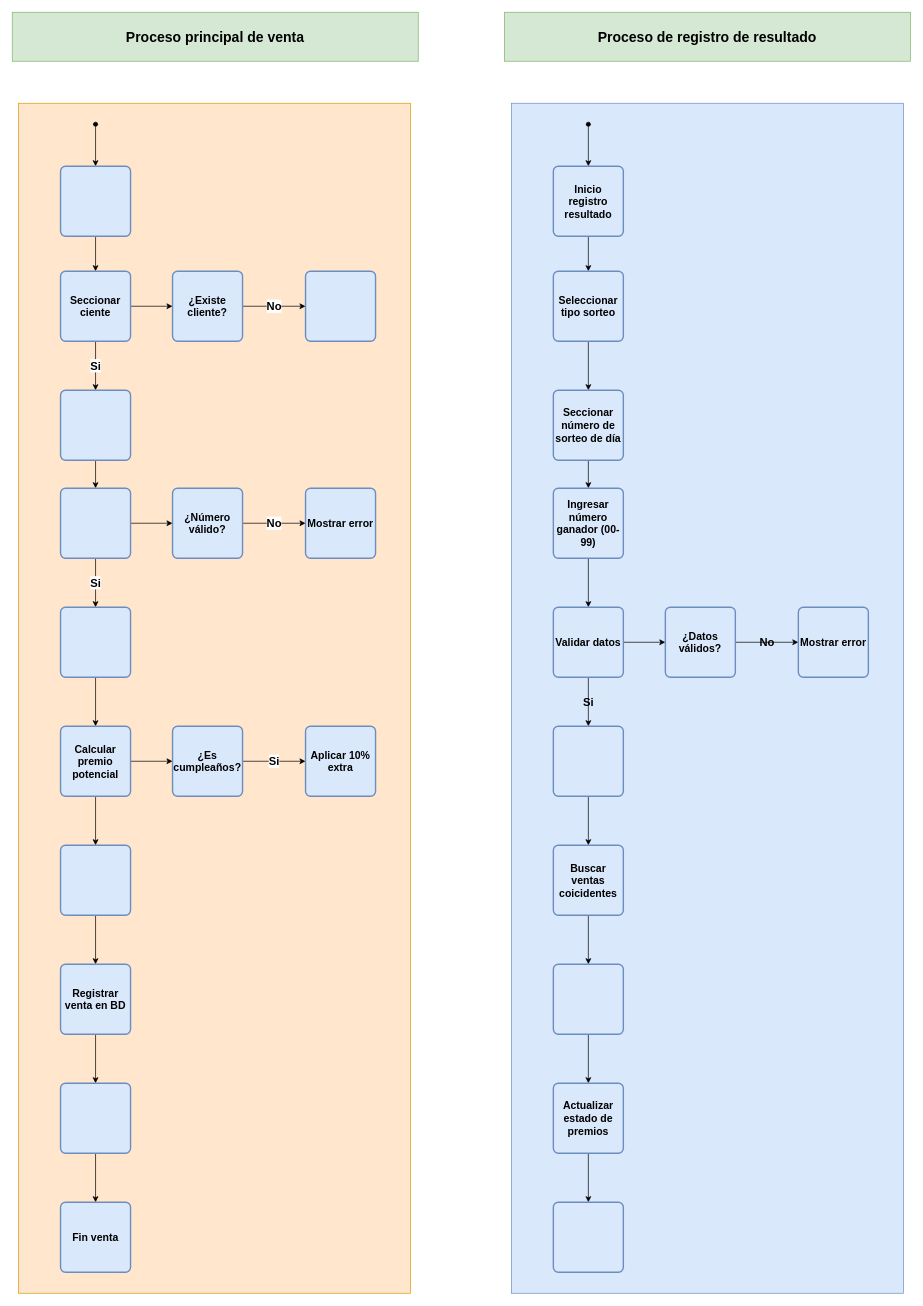
This 923x1306 diagram has some shape labels left out. The shapes that lost their labels are listed below. From the top down, each one's centre as x and y in pixels, then its label:
(95,201): Inicio venta
(340,306): Registrar cliente
(95,425): Seccionar sorteo
(95,523): Ingresar número (00-99)
(95,642): Ingresar monto
(588,761): Registrar datos en BD
(95,880): Generar voucher
(588,999): Marcar ventas como ganadoras
(95,1118): Imprimir / Mostrar voucher
(588,1237): Fin registro
